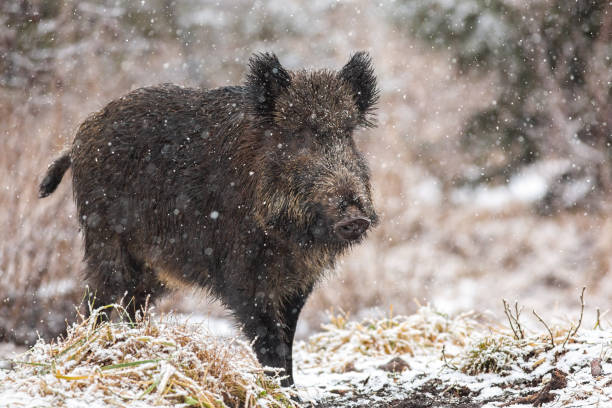pig: (45, 49, 382, 360)
